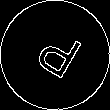P_SW: (26, 24, 84, 86)
